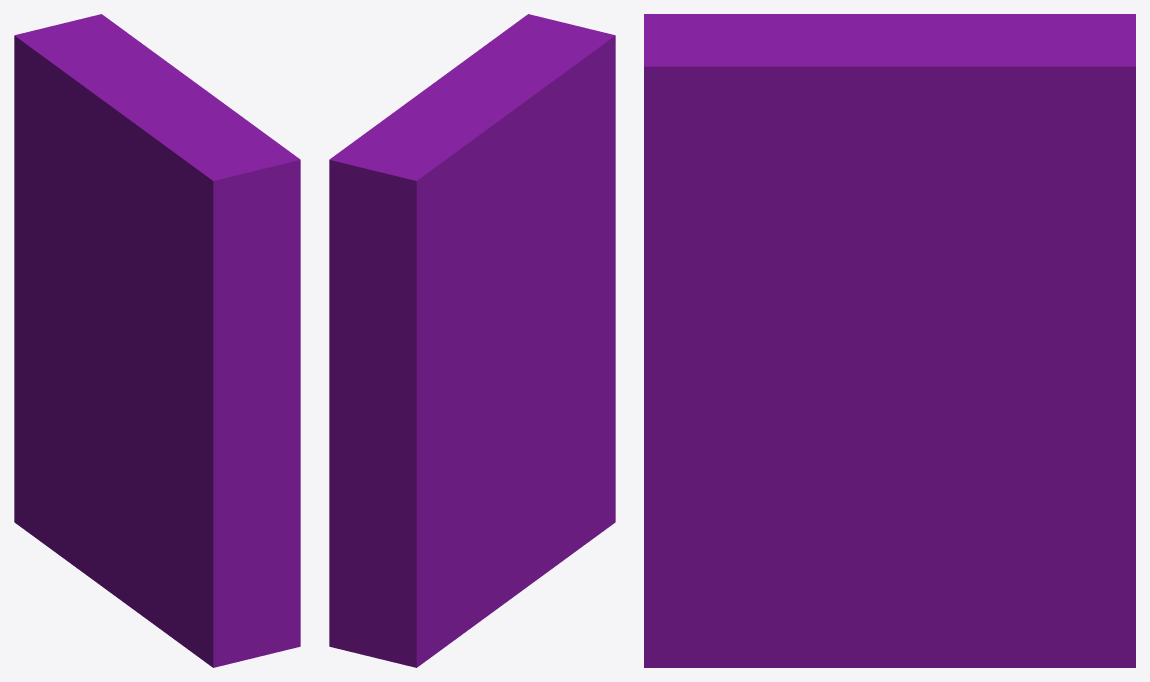
File: traffic_light.DAE
3 views of the same model, side by side, from view 1: azimuth 30°, elevation 25°; view 2: azimuth 150°, elevation 25°; view 3: azimuth 270°, elevation 25° (orthographic). The views are drawn at different scales.
Parts seen in each view (by area): view 1: bounds; view 2: bounds; view 3: bounds.
Boxes of the visible parts, x1,y1,x2,y2 form: bounds: (14,14,300,667); bounds: (329,14,615,667); bounds: (644,14,1135,667).
Size of the model in its own units: 202 by 797 by 1075.
